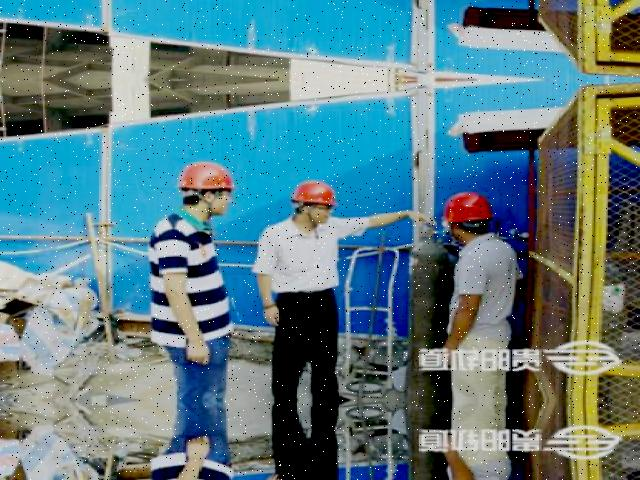Helmet: (436, 187, 502, 230), (290, 174, 343, 214), (177, 160, 239, 192)
